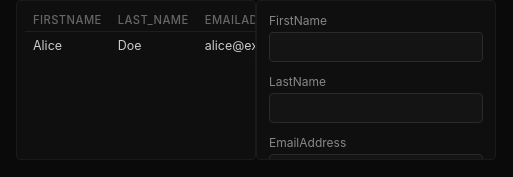
Test: FlowEngineProvider — binding edge / mutation trigger › Test 7: table selectedRow populates connected form setValues even when keys differ by case/format
Step 1. Click the text "Alice" → (48,46), box [25, 32, 110, 60]
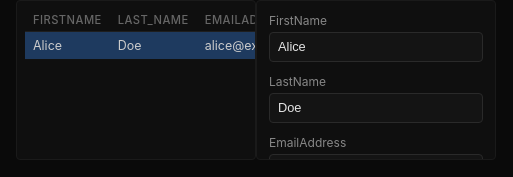
Result: the 1st field holds "Alice" at [269, 32, 483, 62]
Result: the field below "lastName" holds "Doe" at [269, 93, 483, 123]
